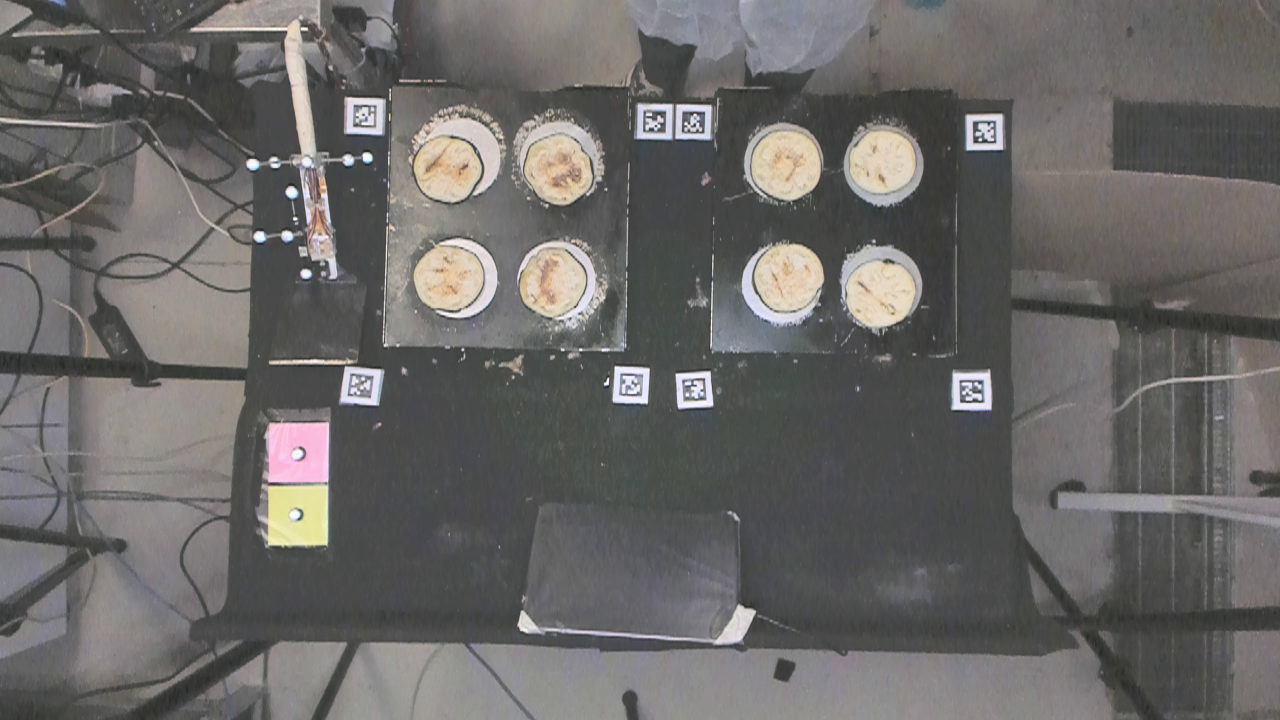eggplant: (406, 240, 487, 320), (749, 235, 828, 312), (747, 123, 821, 203), (845, 125, 920, 198), (520, 134, 593, 208), (839, 261, 917, 330), (408, 136, 483, 206), (518, 252, 590, 316)
marker: (264, 421, 332, 485)
